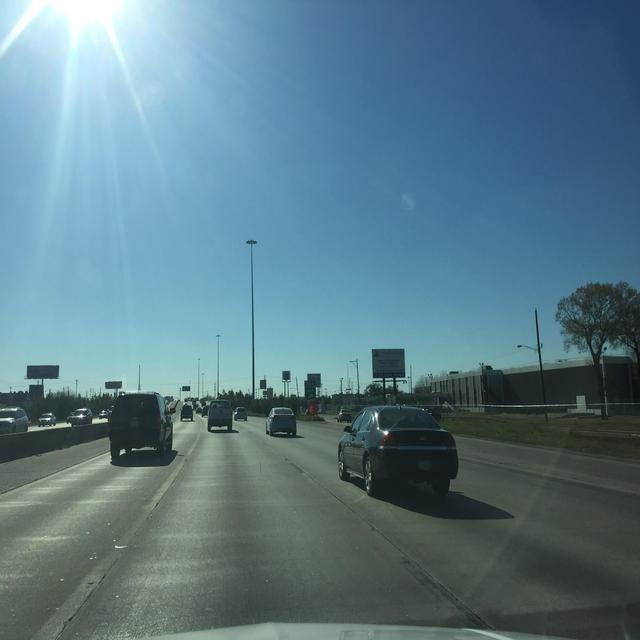Barrier: (0, 422, 108, 462)
Billboard: (24, 365, 121, 387), (371, 349, 404, 377), (282, 370, 320, 386)
Car: (336, 403, 457, 497), (66, 391, 192, 460), (206, 399, 295, 436), (0, 404, 55, 434)
Vegetation: (397, 366, 479, 403), (28, 388, 115, 421), (218, 388, 309, 415)
